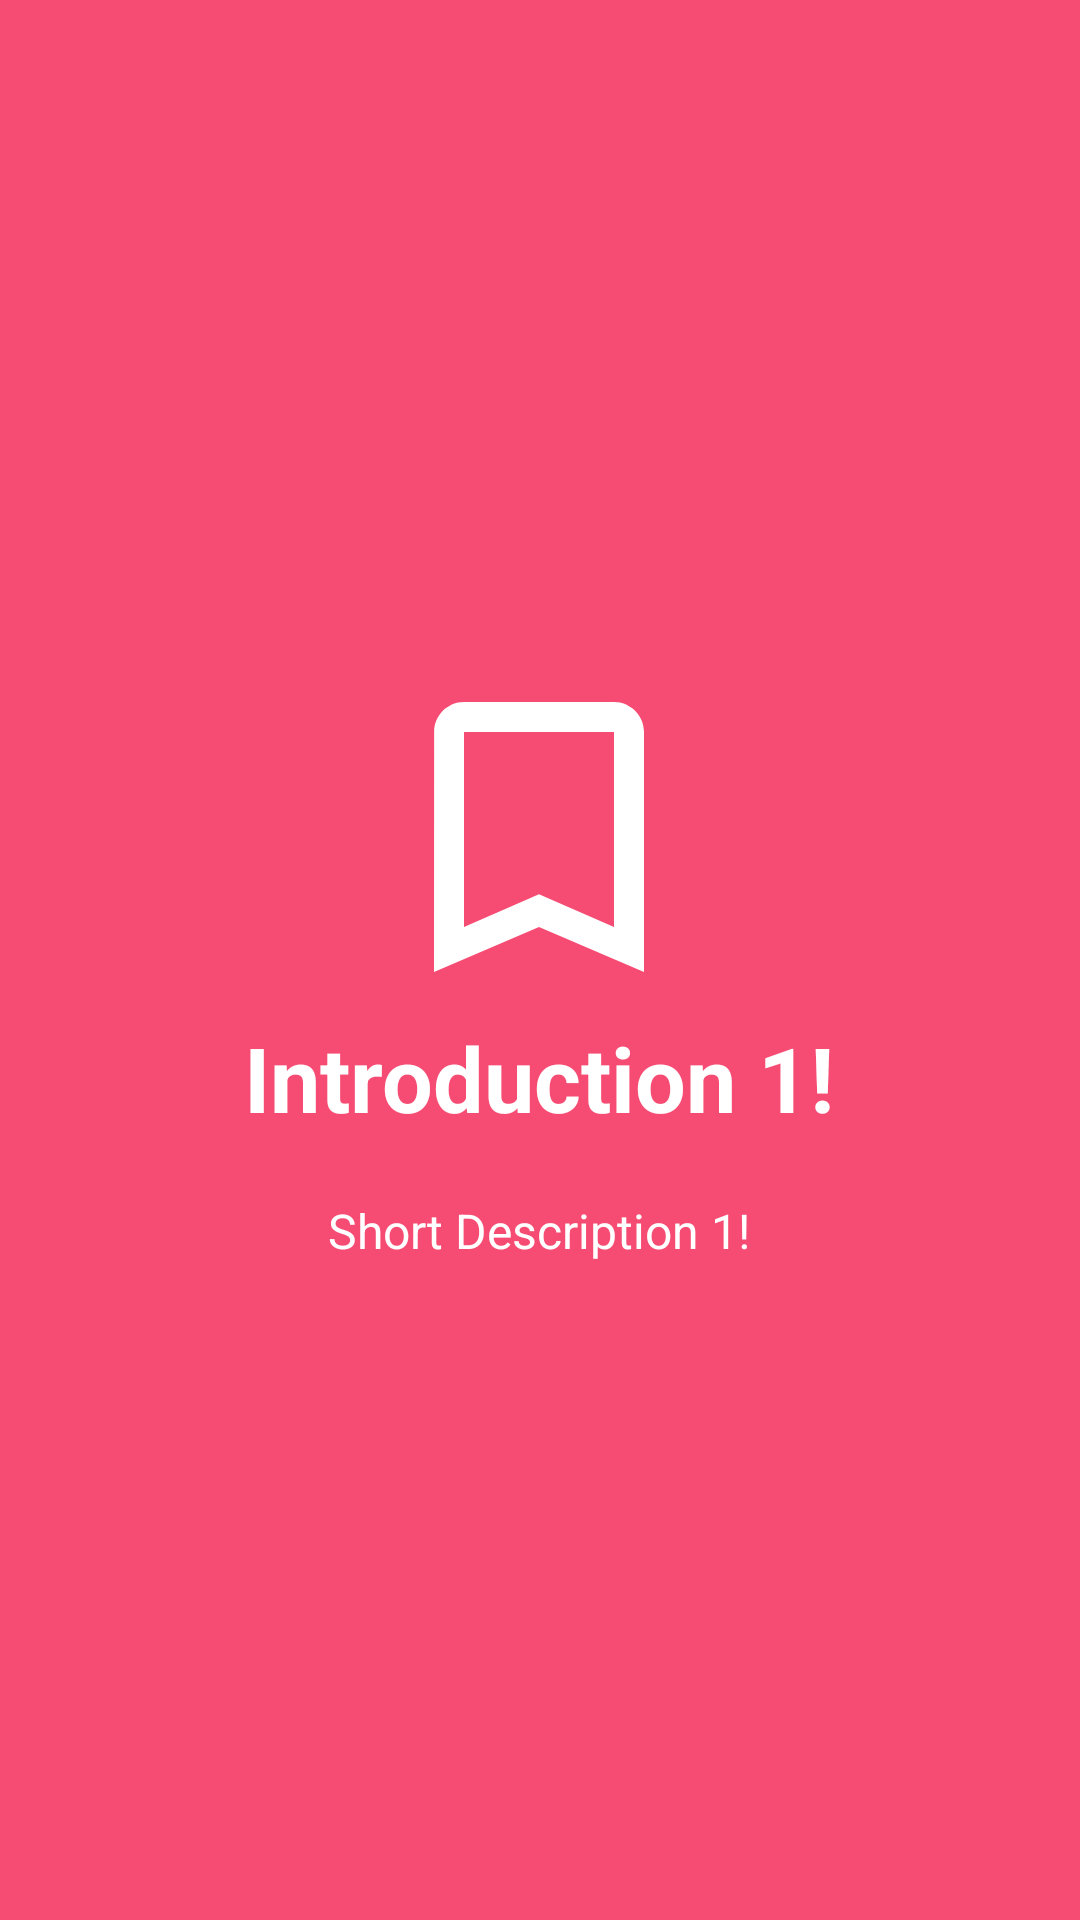

Icons on this 1080px×1920px Android screen, each with the point to tap as [x,y]:
bookmark border: [539,837]
